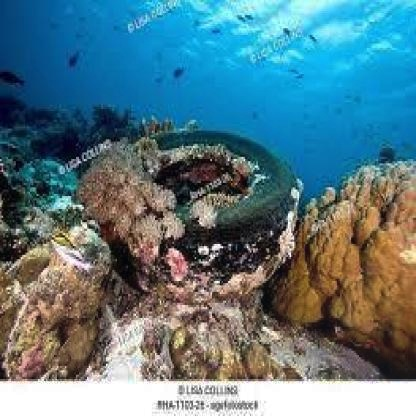tire: (131, 113, 312, 288)
